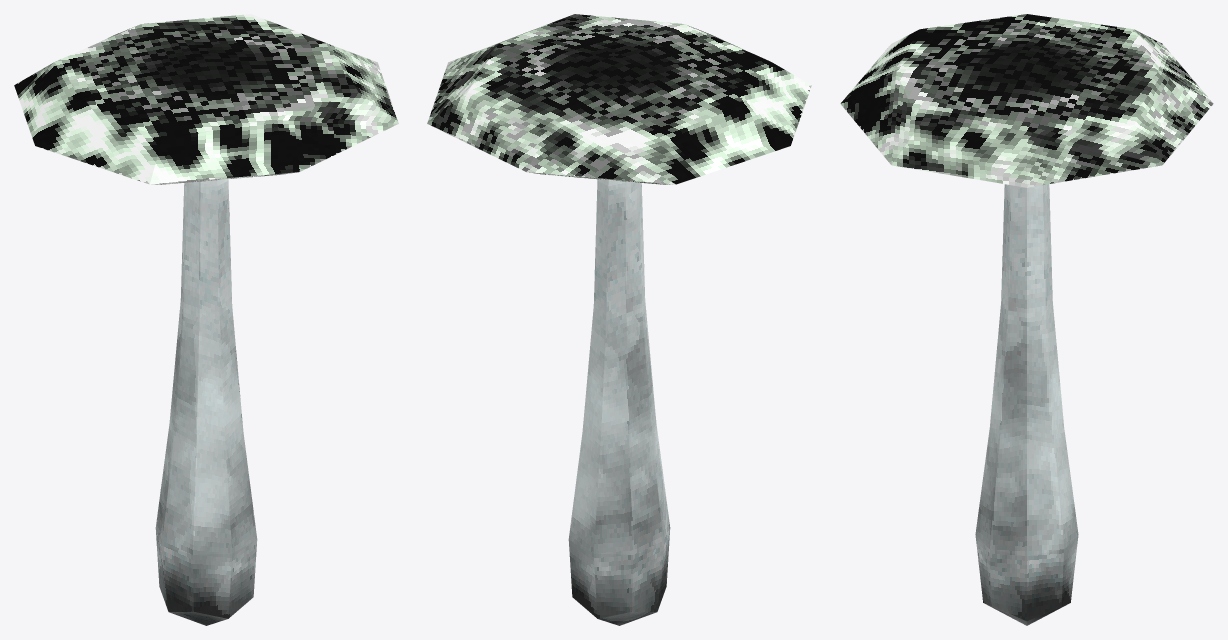
File: mushroom_04.glb
3 renders of one model, left to right at view 1: azimuth 30°, elevation 25°; view 2: azimuth 150°, elevation 25°; view 3: azimuth 270°, elevation 25°, orthographic.
Visible parts, largest first — view 1: MUSH_04-no-col; view 2: MUSH_04-no-col; view 3: MUSH_04-no-col.
Boxes of the visible parts, x1,y1,x2,y2 form: MUSH_04-no-col: (14, 14, 398, 625); MUSH_04-no-col: (427, 14, 811, 625); MUSH_04-no-col: (840, 14, 1213, 625).
Bounding box in the file's own units: 2.29 × 3.6 × 2.16.
1 material, 1 textured.
